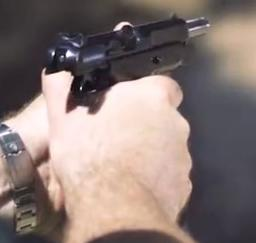gun: (1, 1, 256, 243)
